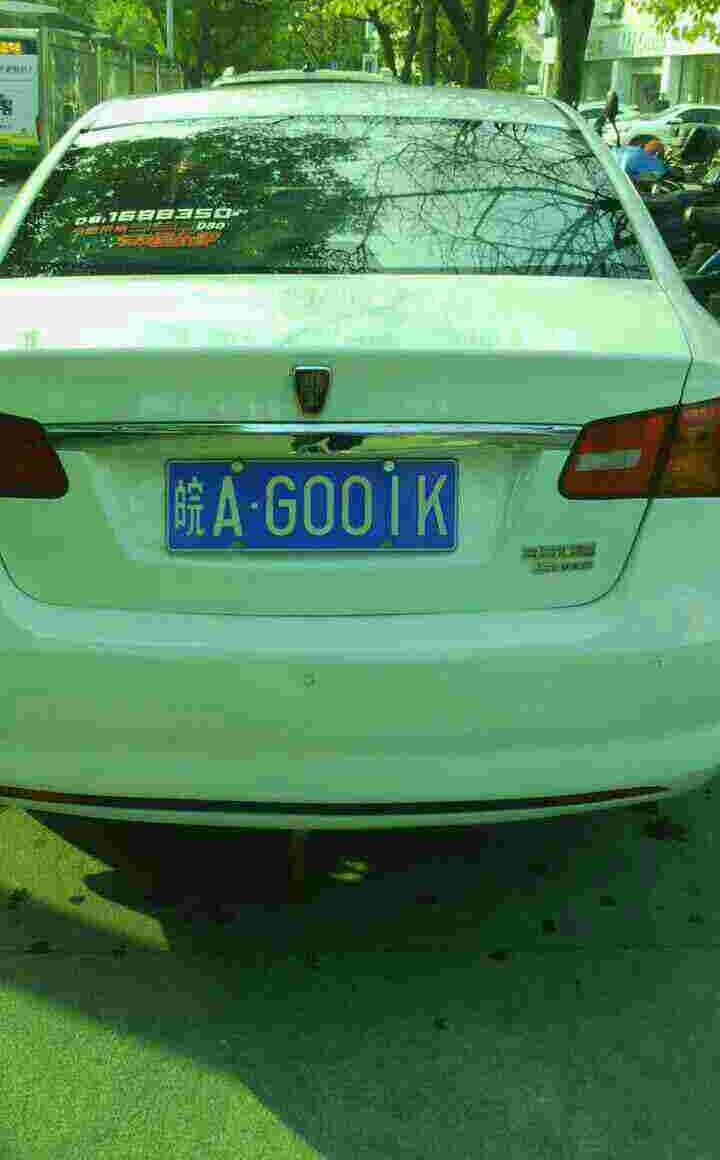license_plate: (160, 463, 451, 558)
